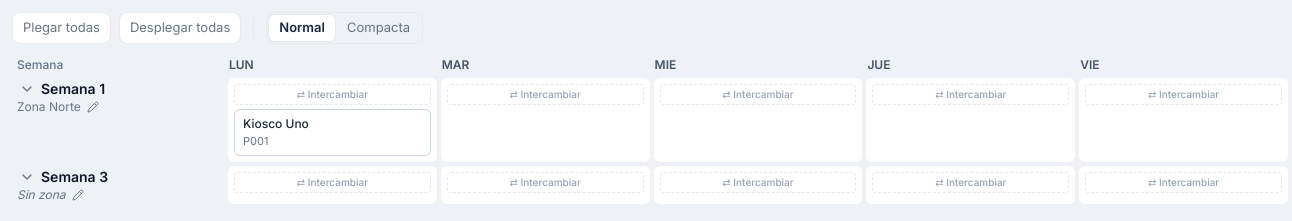
Test: intercambiar días › al elegir el origen, las demás celdas pasan a ser destino
Step 1. Click the button with aria-label "Intercambiar este día: semana 1, LUN" → coordinates (332, 94), box [234,84,431,105]
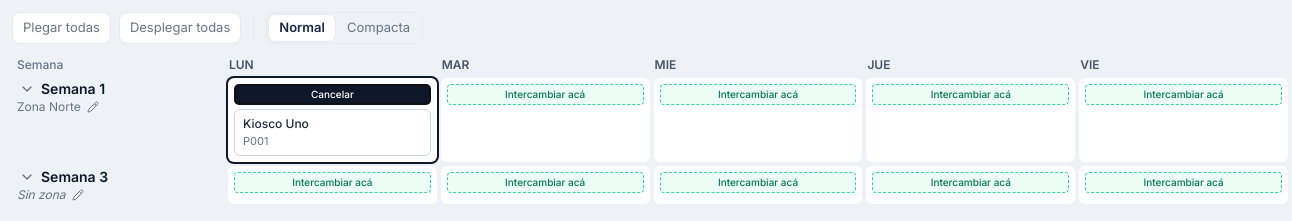
Check: the button with aria-label "Cancelar intercambio: semana 1, LUN" is shown, box [234,84,431,105]
